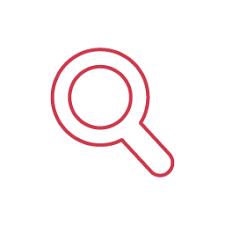searchIcon: (48, 45, 177, 179)
